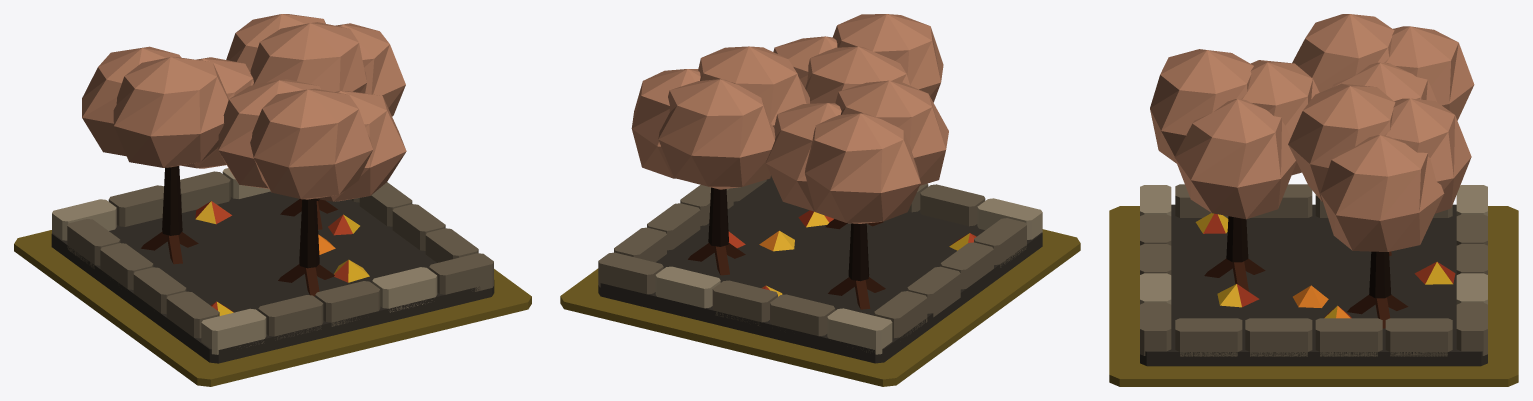
Rendered from frostgrove_t1.glb.
3 renders of one model, left to right at view 1: azimuth 30°, elevation 25°; view 2: azimuth 150°, elevation 25°; view 3: azimuth 270°, elevation 25°, orthographic. The views are drawn at different scales.
Visible parts, largest first — view 1: MMR | frostgrove | T01 Architecture.001, MMR | frostgrove | Tier 01 Ground.001, MMR | frostgrove | T01 Autumn Dressing.001; view 2: MMR | frostgrove | T01 Architecture.001, MMR | frostgrove | Tier 01 Ground.001, MMR | frostgrove | T01 Autumn Dressing.001; view 3: MMR | frostgrove | T01 Architecture.001, MMR | frostgrove | Tier 01 Ground.001, MMR | frostgrove | T01 Autumn Dressing.001.
Part boxes in pixels (x1,y1,x2,y2): MMR | frostgrove | T01 Architecture.001: (51,14,494,363); MMR | frostgrove | Tier 01 Ground.001: (14,230,531,386); MMR | frostgrove | T01 Autumn Dressing.001: (195,201,369,315); MMR | frostgrove | T01 Architecture.001: (598,14,1042,363); MMR | frostgrove | Tier 01 Ground.001: (560,229,1080,386); MMR | frostgrove | T01 Autumn Dressing.001: (728,210,976,296); MMR | frostgrove | T01 Architecture.001: (1140,14,1487,366); MMR | frostgrove | Tier 01 Ground.001: (1109,206,1518,386); MMR | frostgrove | T01 Autumn Dressing.001: (1195,213,1455,318).
Size of the model in its own units: 2.35 by 1.54 by 2.35.
Materials: 1 (1 with a texture image).
